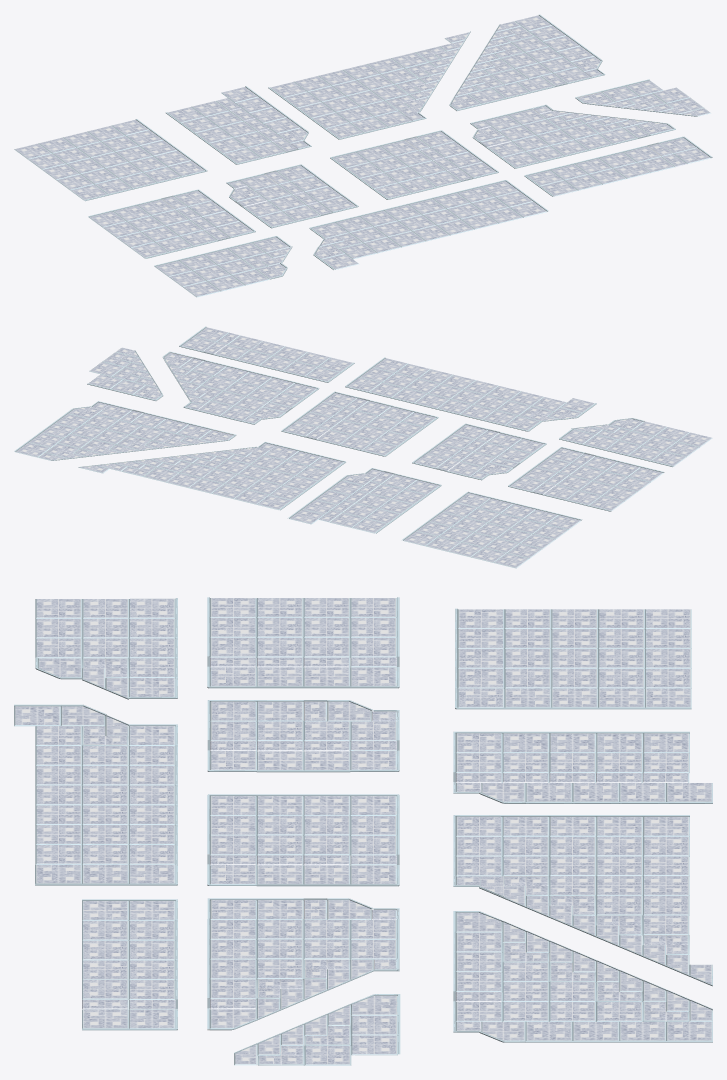
Rendered from tiles_ground.fbx.
3 renders of one model, top to bottom at view 1: azimuth 30°, elevation 25°; view 2: azimuth 150°, elevation 25°; view 3: azimuth 270°, elevation 25°, orthographic. The views are drawn at different scales.
Parts seen in each view (by area): view 1: no part large enough to name; view 2: no part large enough to name; view 3: polySurface169 (×2), polySurface170 (×2), polySurface15, polySurface110, polySurface113, polySurface259, polySurface279, polySurface227, polySurface56, polySurface68, polySurface21, polySurface16 (+183 smaller).
Part boxes in pixels (x1,y1,x2,y2): polySurface169 (×2): [129, 835, 399, 960]; polySurface170 (×2): [129, 815, 399, 940]; polySurface15: [350, 864, 399, 886]; polySurface110: [350, 666, 399, 688]; polySurface113: [207, 666, 256, 688]; polySurface259: [453, 731, 502, 753]; polySurface279: [455, 687, 504, 709]; polySurface227: [453, 815, 502, 836]; polySurface56: [207, 700, 256, 721]; polySurface68: [207, 898, 256, 919]; polySurface21: [350, 794, 399, 815]; polySurface16: [207, 794, 256, 815].
Size of the model in its own units: 449 by 0.9 by 283.
Materials: 2 (2 with a texture image).
